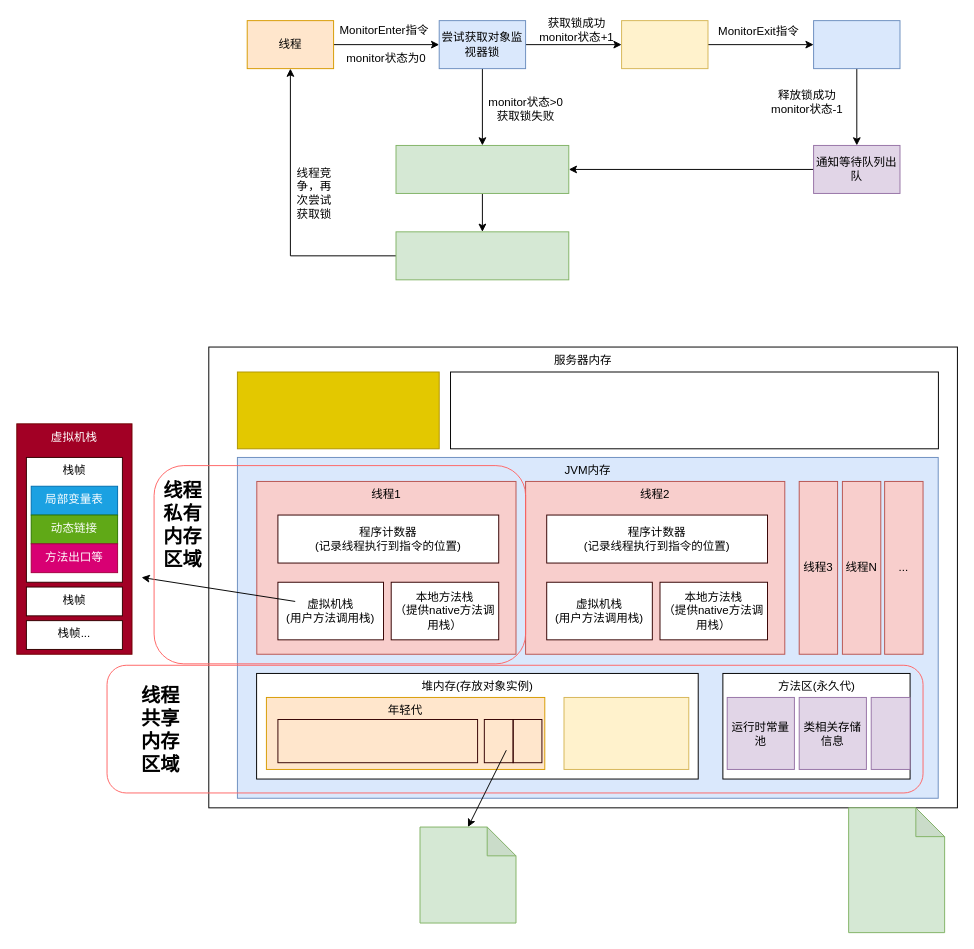
This 974x949 diagram has some shape labels left out. The centre of each missing label's shape, as x and y in pixels:
"Eden区" goes at [377,741].
"Java8后就删除了方法区改为了元空间，而且位置在本地内存中" goes at [896,870].
"Java使用的直接内存" goes at [337,410].
"两个Survive区，和Eden区的比例默认是8：1：1" goes at [467,874].
"入队到同步队列" goes at [482,255].
"其他内存" goes at [694,410].
"执行同步方法/代码块" goes at [664,44].
"线程进入等待队列中等待锁释放" goes at [482,168].
"老年代" goes at [626,732].
"释放对象监视器锁" goes at [856,44].
"静态变量，常量等" goes at [890,732].
